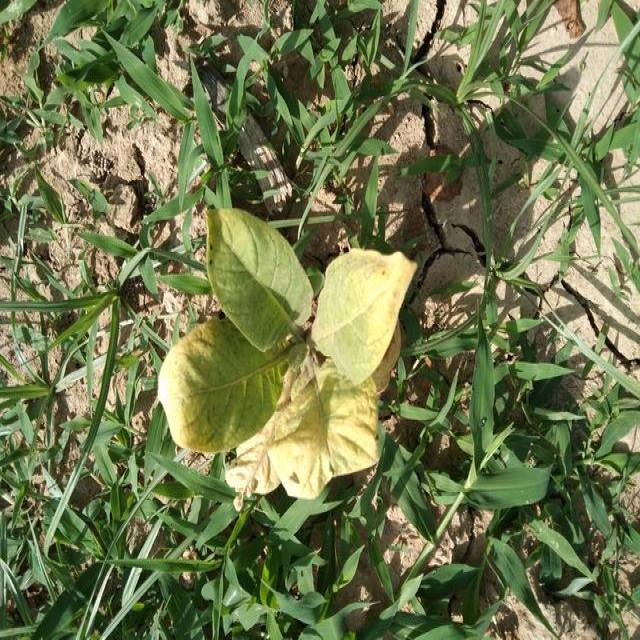crop: (146, 186, 426, 514)
